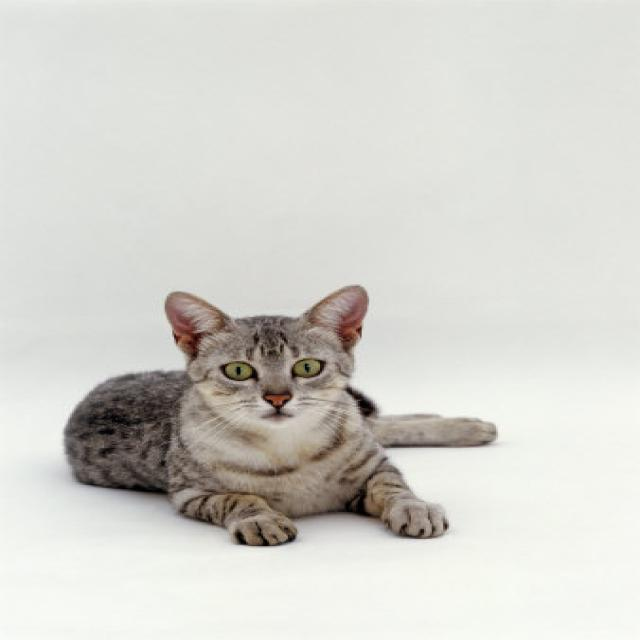Egyptian_Mau: (152, 286, 383, 450)
